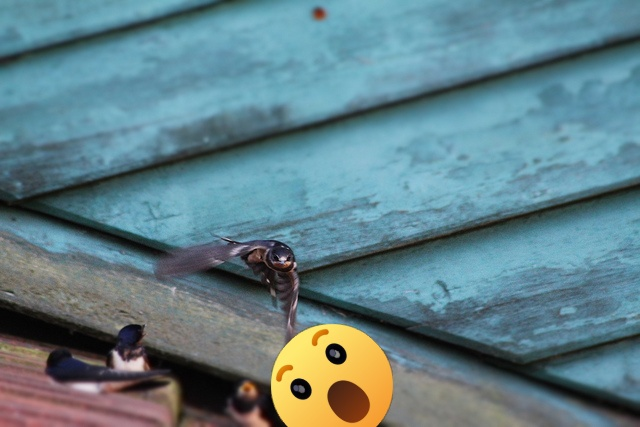wow: (271, 324, 393, 427)
